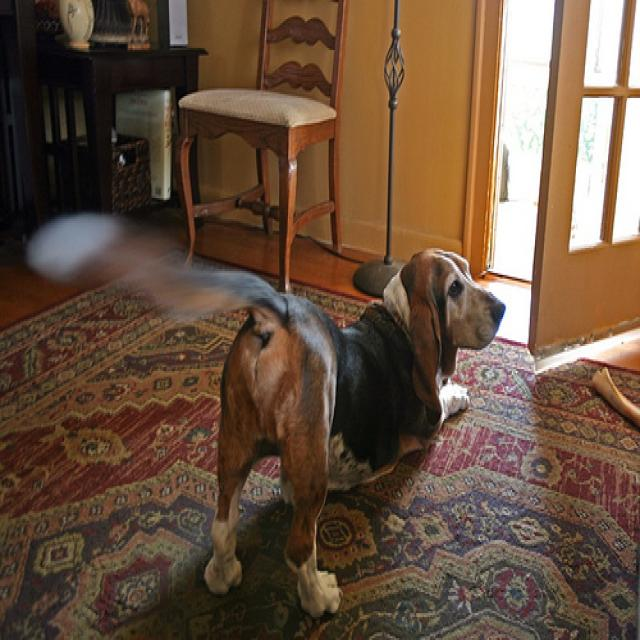dog-basset_hound: (26, 209, 508, 625)
